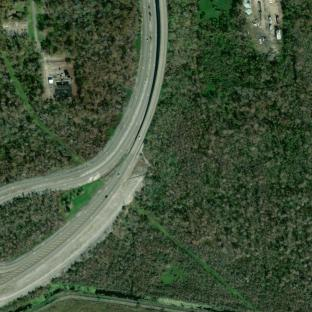Forest: (57, 0, 311, 311), (0, 0, 140, 159), (0, 190, 64, 261)
